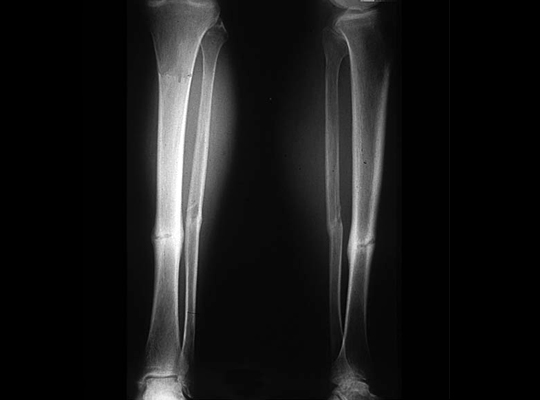fracture: (349, 241, 375, 251), (328, 219, 344, 231), (151, 232, 182, 238)
